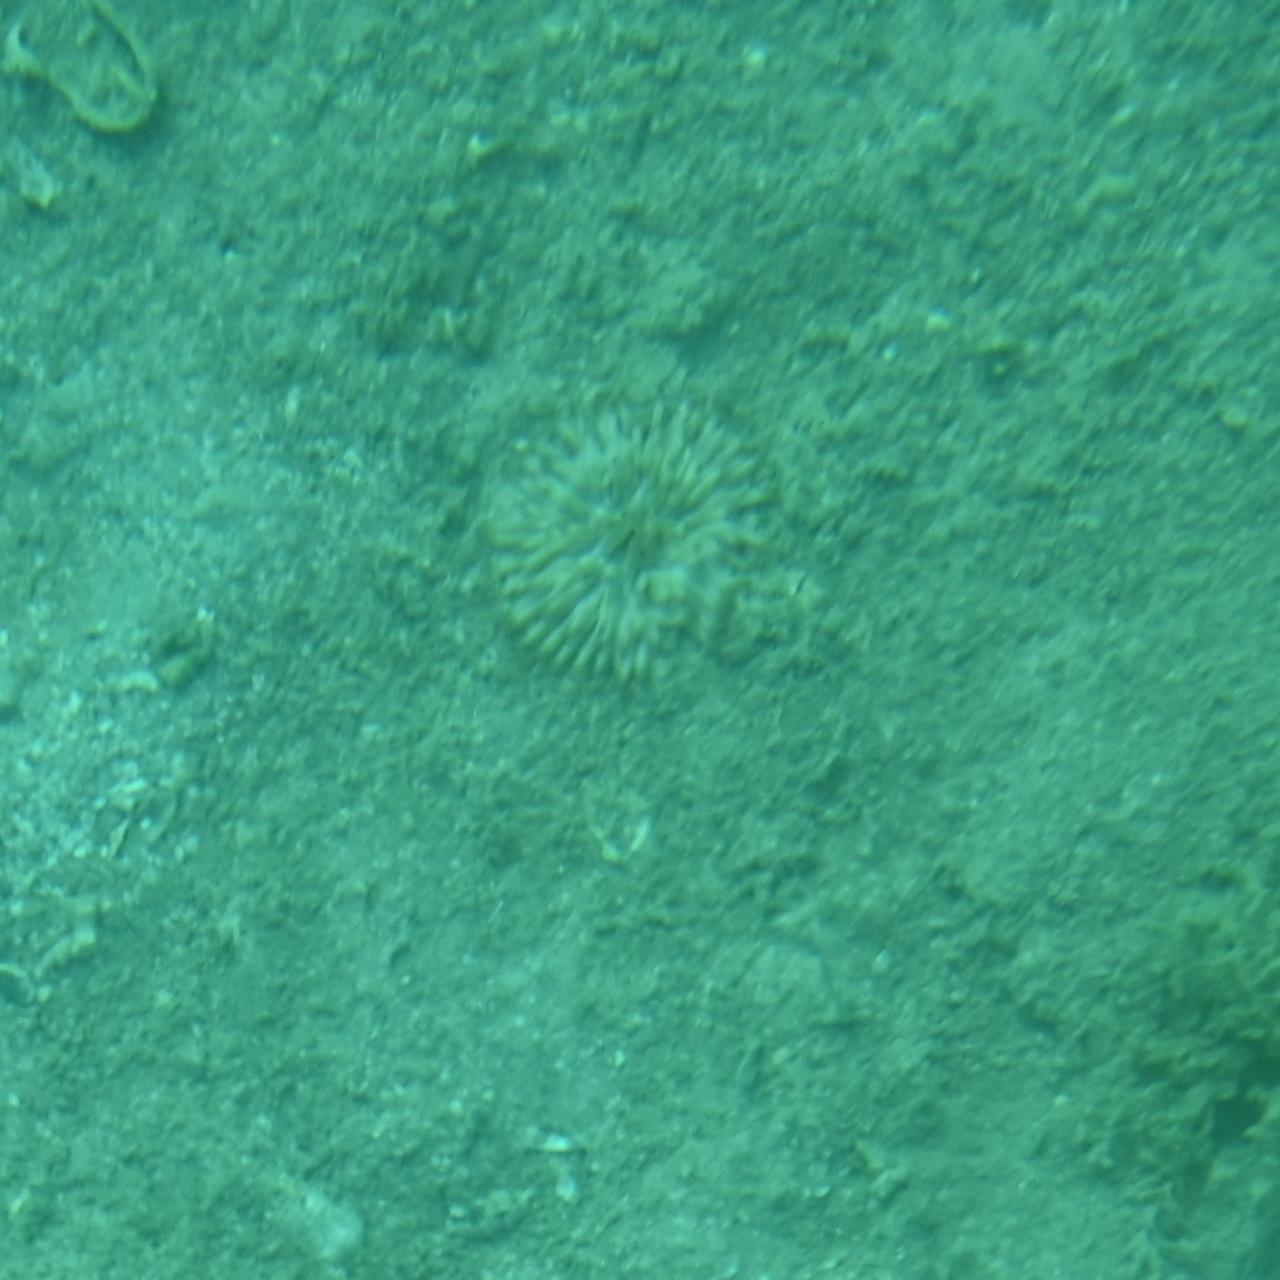Condylactis aurantiaca: (470, 395, 810, 706)
